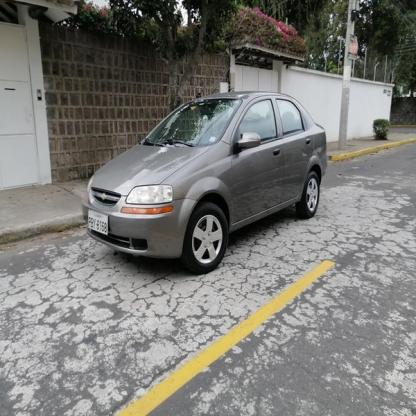Placa: (84, 208, 113, 240)
